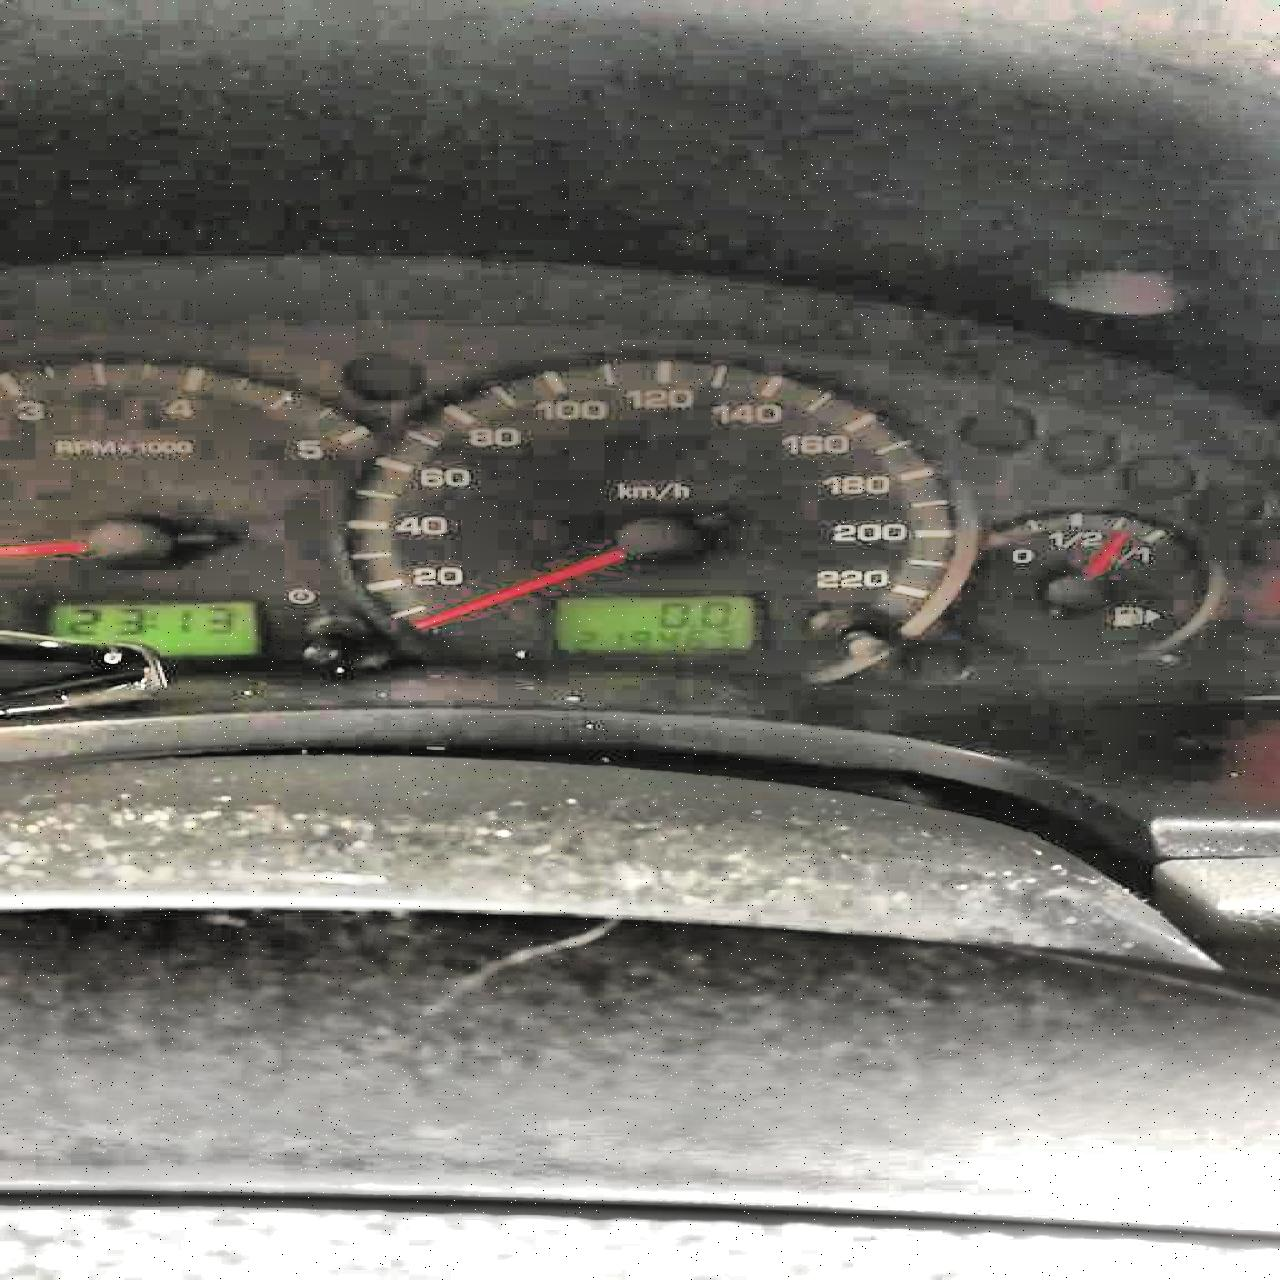-: (689, 622, 697, 627)
0: (697, 600, 731, 628), (655, 601, 689, 626)
1: (610, 629, 627, 649)
2: (571, 629, 598, 651)
3: (709, 629, 731, 649)
4: (655, 629, 680, 649)
6: (682, 627, 707, 648)
9: (629, 629, 651, 651)
odometer: (542, 592, 762, 654)
